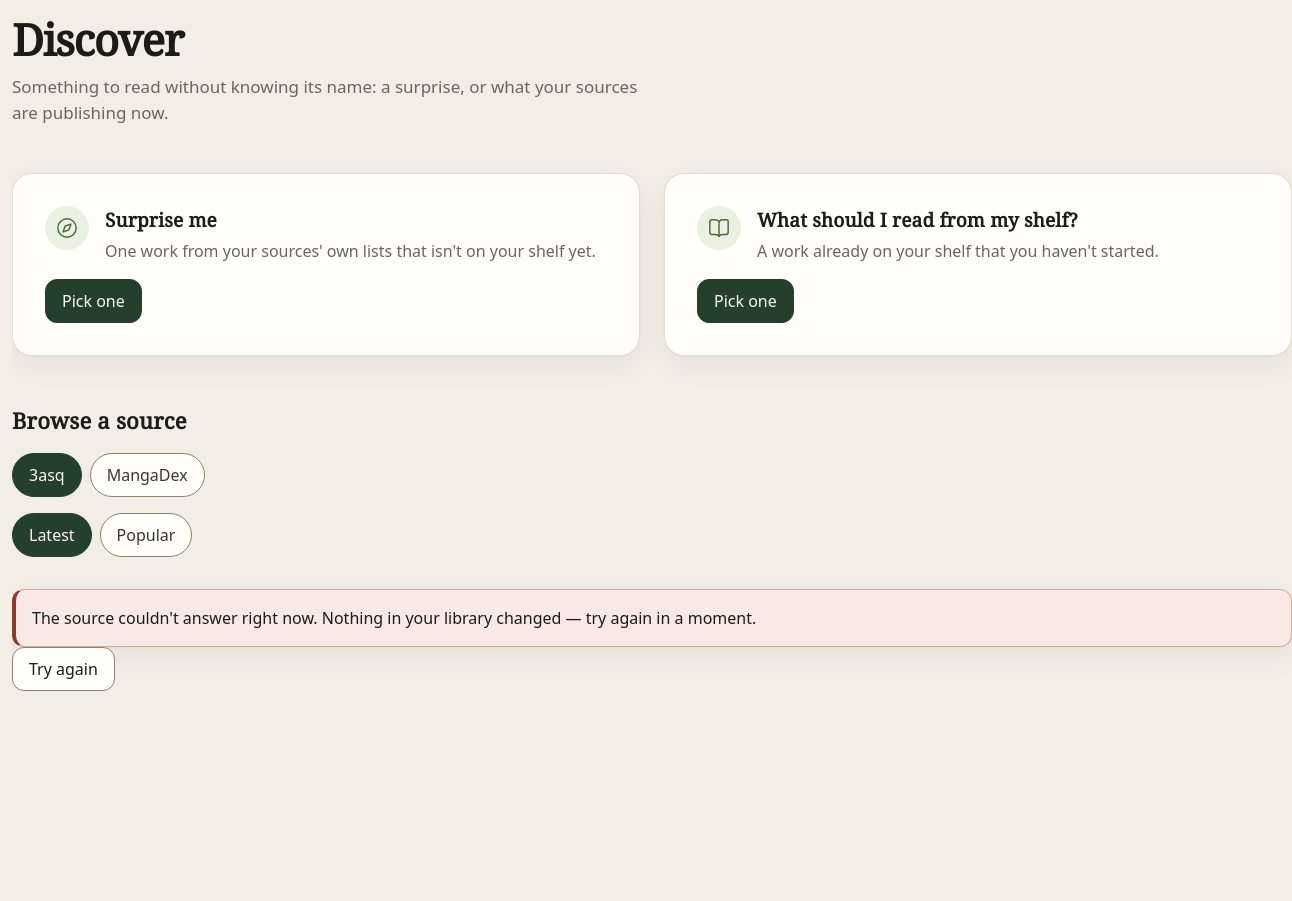
Test case: Discover › says plainly when a list fails, and retries it
Expected: the message is shown, [12,589,1291,647]
Step 1. Click the button "Try again" → click(63, 669), box [12,647,115,691]
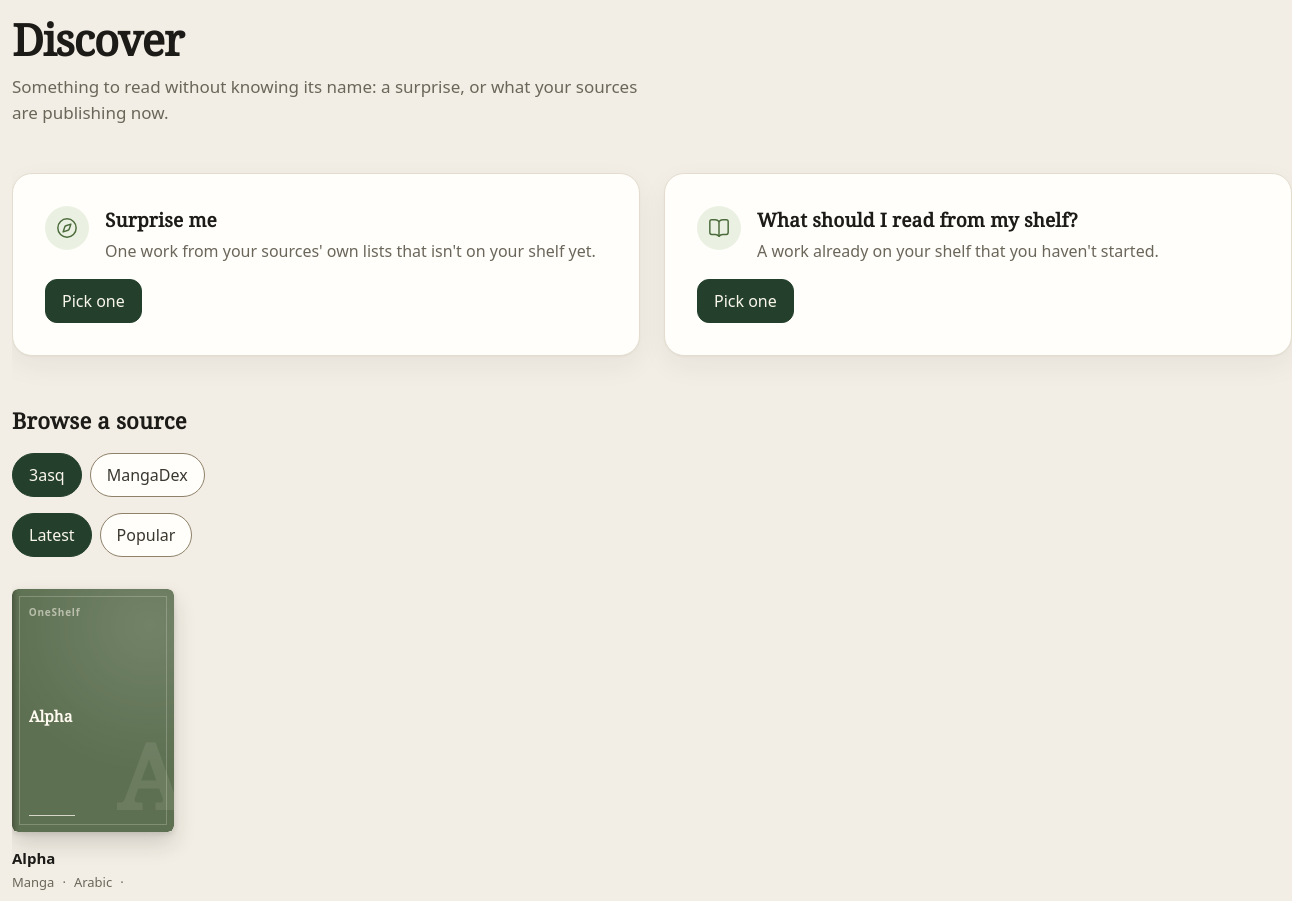
Result: the text "Alpha" is shown at [12,848,55,868]
Result: the message is gone
